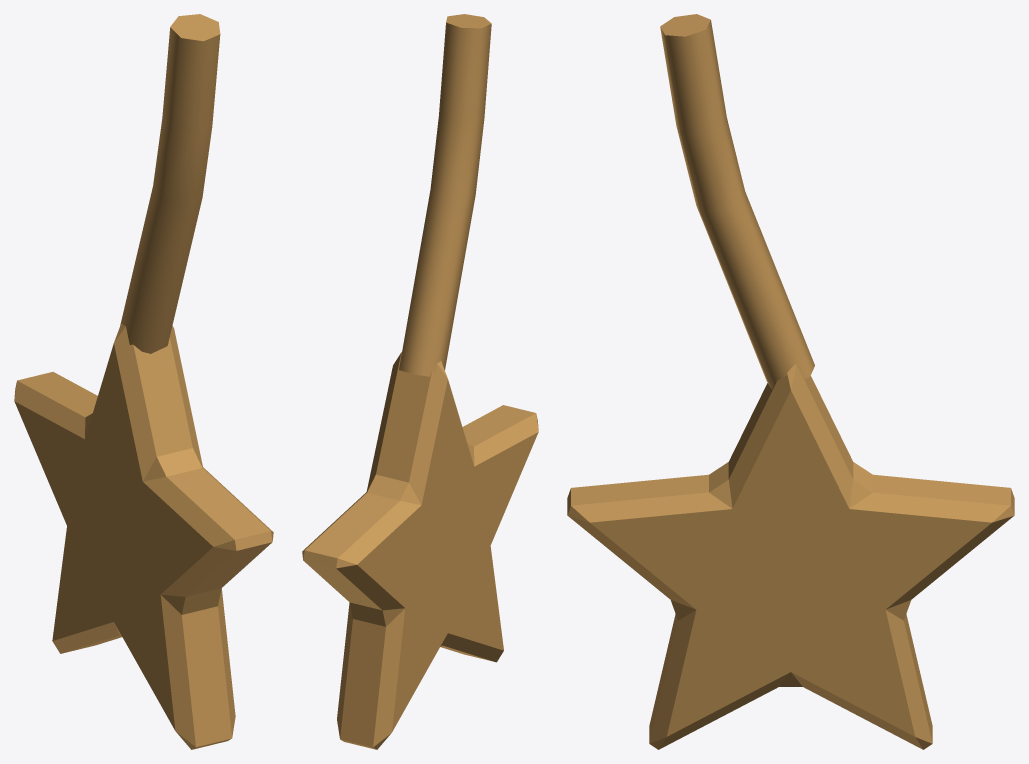
The model's file is SM_Menu_MoonStarRight.fbx.
The picture shows the model from 3 angles, left to right: view 1: azimuth 30°, elevation 25°; view 2: azimuth 150°, elevation 25°; view 3: azimuth 270°, elevation 25°; orthographic projection. The views are drawn at different scales.
Parts seen in each view (by area): view 1: SM_Menu_MoonStarRight; view 2: SM_Menu_MoonStarRight; view 3: SM_Menu_MoonStarRight.
Part boxes in pixels (box(x1,y1,x2,y2)): SM_Menu_MoonStarRight: box(14, 14, 273, 749); SM_Menu_MoonStarRight: box(302, 14, 538, 749); SM_Menu_MoonStarRight: box(567, 14, 1014, 749).
Size of the model in its own units: 4 by 25.44 by 45.14.
